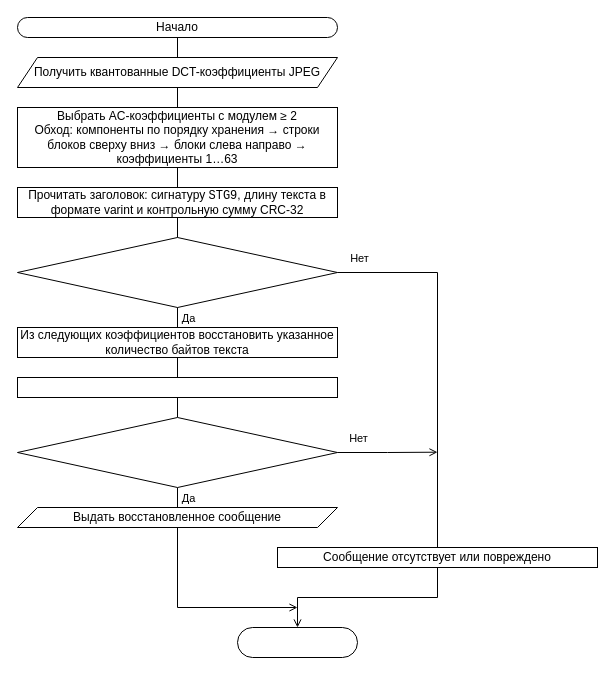
Some shapes in this 615 by 675 pixel diagram are drawn without their labels. Each missing label, with the box of its shape:
Вычисленная CRC-32 совпадает с контрольной суммой из заголовка?: (16, 416, 338, 488)
Вычислить CRC-32 восстановленного текста: (16, 376, 338, 398)
Заголовок корректен и для указанного текста хватает коэффициентов?: (16, 236, 338, 308)
Конец: (236, 626, 358, 658)
